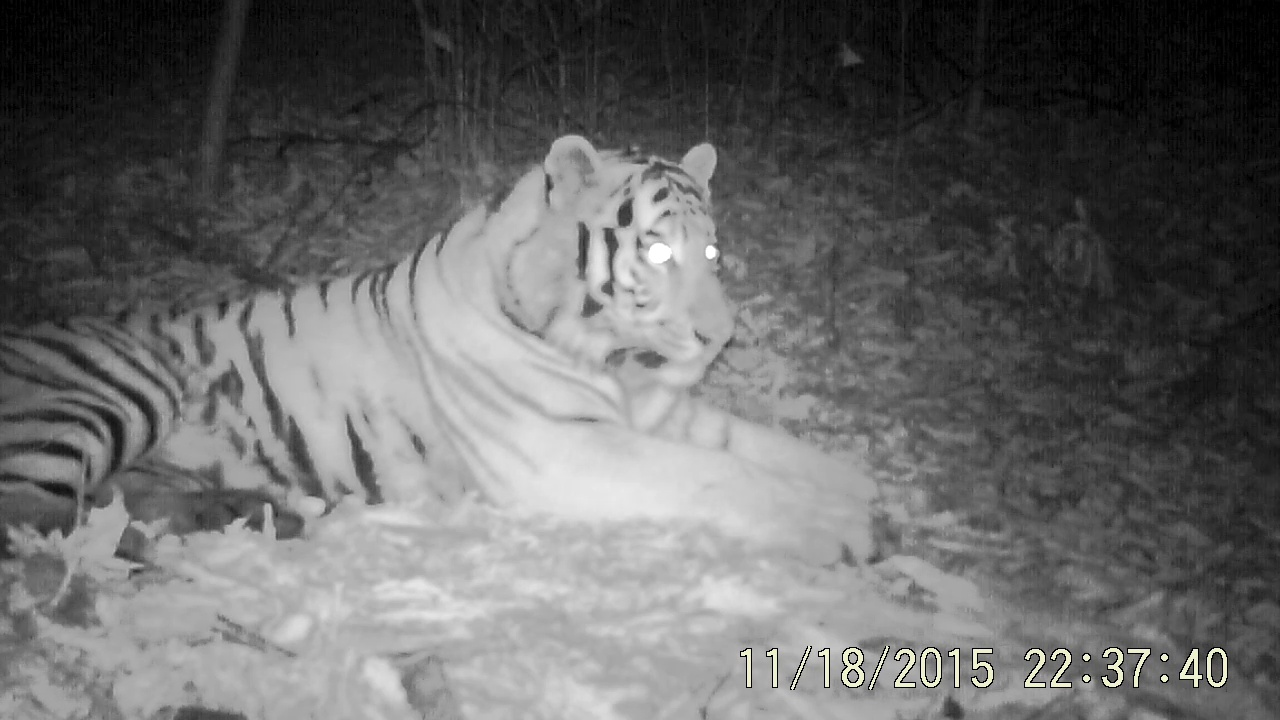Tiger: (9, 64, 982, 594)
